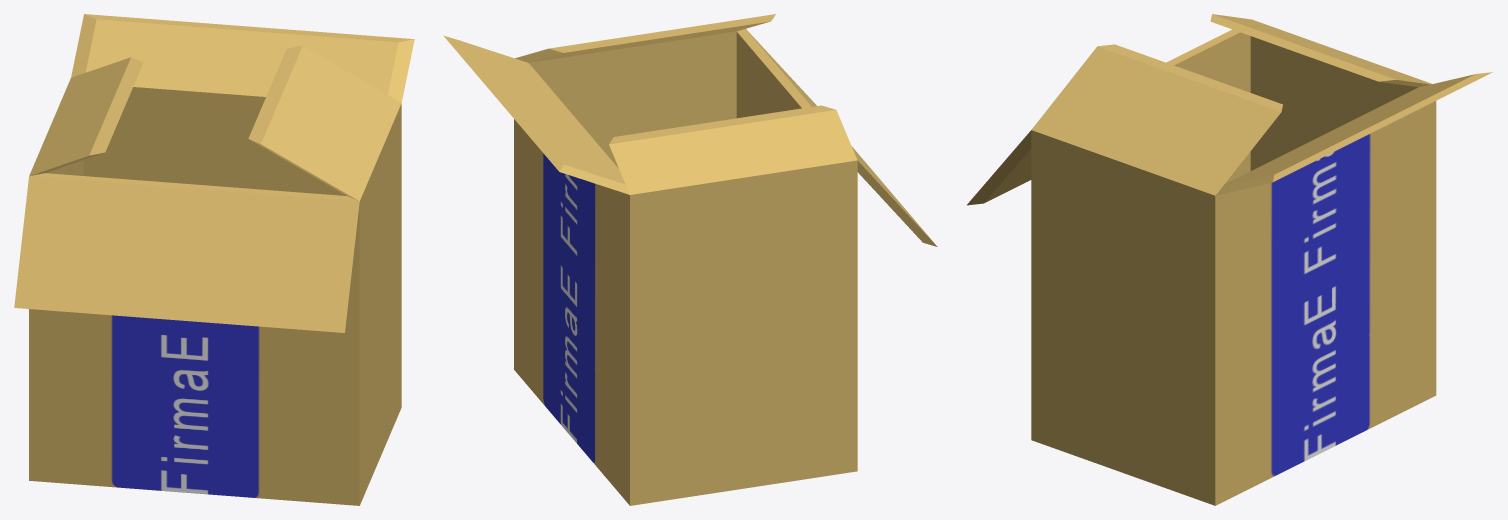
File: karton.fbx
3 renders of one model, left to right at view 1: azimuth 30°, elevation 25°; view 2: azimuth 150°, elevation 25°; view 3: azimuth 270°, elevation 25°, orthographic. The views are drawn at different scales.
Visible parts, largest first — view 1: karton; view 2: karton; view 3: karton.
Boxes of the visible parts, x1,y1,x2,y2 form: karton: (14, 14, 414, 505); karton: (443, 14, 937, 505); karton: (967, 14, 1492, 505).
Size of the model in its own units: 201 by 154 by 204.
1 material, 1 textured.
